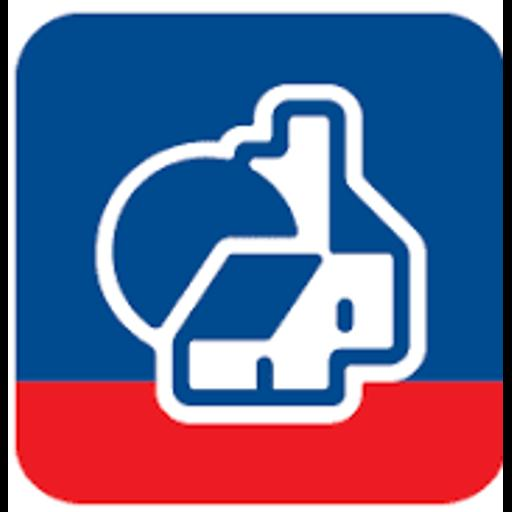Nationwide Building Society: (8, 0, 503, 512)
